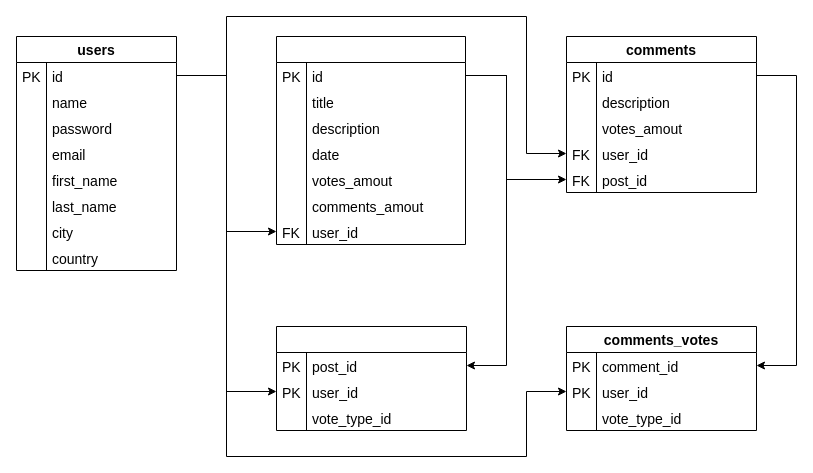
The diagram is 813 pixels wide and 473 high, and some of its shapes have lost their labels. Each missing label, with the box of its shape:
posts: (276, 36, 466, 244)
posts_votes: (276, 326, 466, 430)
